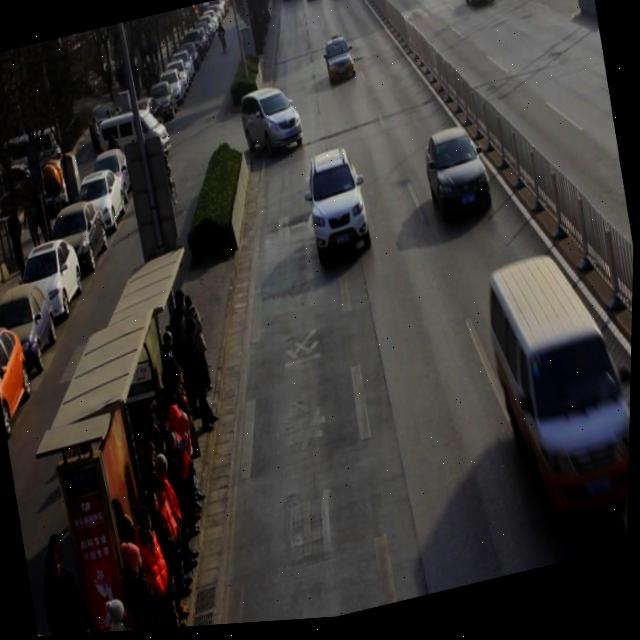car: (302, 148, 377, 269), (421, 125, 497, 234), (238, 83, 308, 166), (323, 37, 360, 91), (459, 0, 497, 15)
truck: (479, 247, 635, 538)
